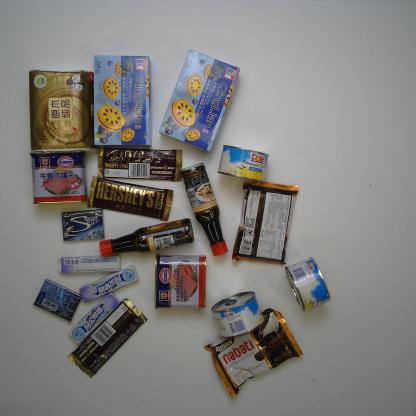Candy: (68, 292, 121, 344), (79, 265, 139, 303), (59, 254, 121, 274)
Canned Food: (29, 150, 89, 204), (154, 253, 206, 309), (284, 258, 330, 312), (212, 292, 266, 338), (218, 144, 268, 183)
Chocolate: (68, 299, 148, 379), (87, 176, 174, 222), (98, 144, 183, 182)
Dessert: (204, 308, 304, 398), (159, 49, 240, 153), (93, 54, 152, 148), (232, 181, 298, 263)
Gum: (32, 279, 82, 322), (61, 208, 104, 242)
Seasoner: (181, 163, 228, 256), (99, 218, 194, 257)
Tissue: (29, 69, 99, 155)
